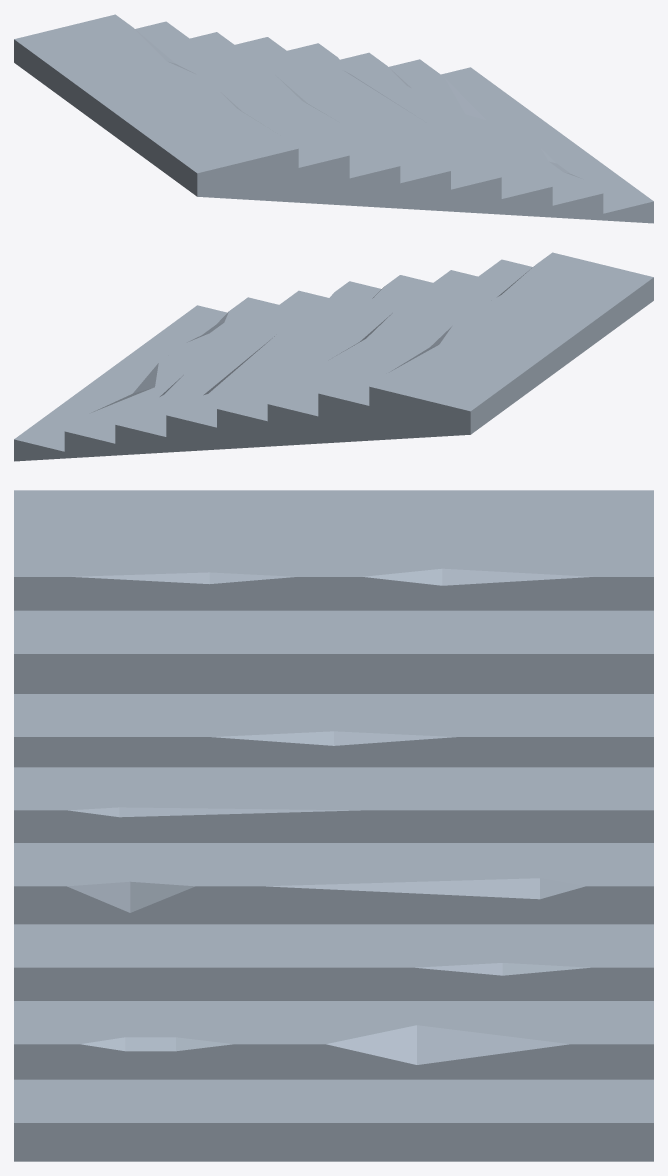
File: stairs_2.fbx
3 views of the same model, one above another, from view 1: azimuth 30°, elevation 25°; view 2: azimuth 150°, elevation 25°; view 3: azimuth 270°, elevation 25° (orthographic). The views are drawn at different scales.
Parts seen in each view (by area): view 1: stairs_2; view 2: stairs_2; view 3: stairs_2.
Part boxes in pixels (left/top/right/bottom): stairs_2: left=14, top=14, right=653, bottom=223; stairs_2: left=14, top=252, right=653, bottom=461; stairs_2: left=14, top=490, right=653, bottom=1161.
Size of the model in its own units: 10.38 by 3.51 by 7.22.
